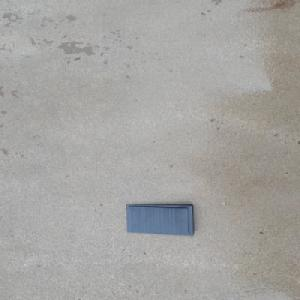PlasticPart: (125, 202, 196, 235)
